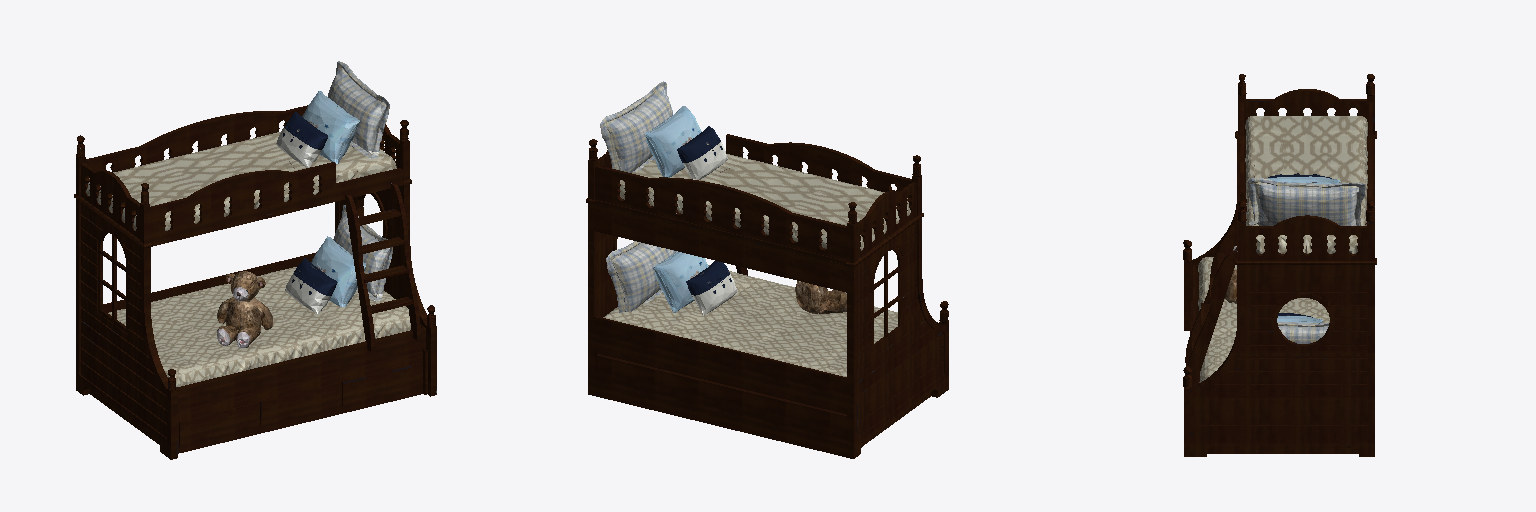
3 renders of one model, left to right at view 1: azimuth 30°, elevation 25°; view 2: azimuth 150°, elevation 25°; view 3: azimuth 270°, elevation 25°, orthographic.
Visible parts, largest first — view 1: solid_005, solid_004, solid_001, solid_003, solid_010, solid_006, solid_009; view 2: solid_005, solid_004, solid_001, solid_003, solid_006, solid_009, solid_010; view 3: solid_005, solid_004, solid_001, solid_003.
Boxes of the visible parts, x1,y1,x2,y2 form: solid_005: [74, 105, 436, 459]; solid_004: [86, 132, 410, 386]; solid_001: [328, 61, 392, 300]; solid_003: [302, 91, 365, 306]; solid_010: [217, 271, 272, 347]; solid_006: [283, 112, 337, 295]; solid_009: [276, 128, 330, 313]; solid_005: [586, 134, 948, 458]; solid_004: [603, 154, 910, 376]; solid_001: [600, 81, 676, 312]; solid_003: [645, 106, 708, 312]; solid_006: [677, 126, 731, 295]; solid_009: [683, 142, 737, 315]; solid_010: [795, 281, 846, 313]; solid_005: [1183, 74, 1376, 456]; solid_004: [1198, 116, 1367, 382]; solid_001: [1248, 178, 1366, 343]; solid_003: [1267, 176, 1340, 322].
Size of the model in its own units: 2.05 by 1.99 by 1.28.
1 materials, 1 textured.